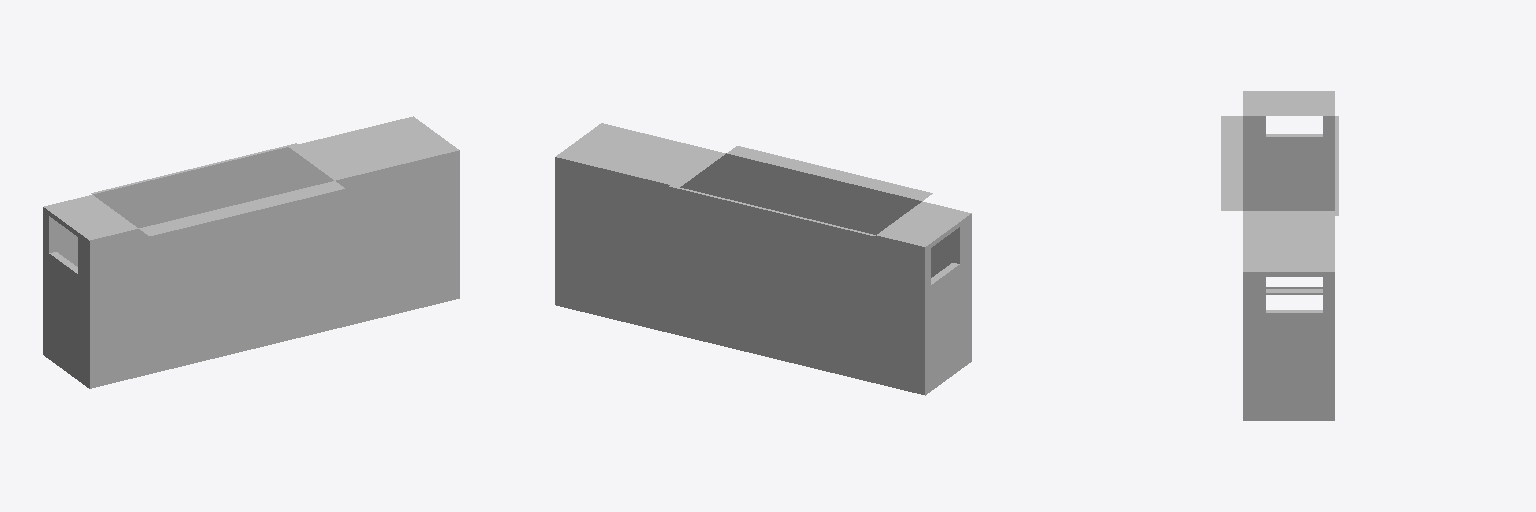
The model's file is SM_Living_Shadowbox.obj.
3 views of the same model, side by side, from view 1: azimuth 30°, elevation 25°; view 2: azimuth 150°, elevation 25°; view 3: azimuth 270°, elevation 25° (orthographic).
Parts seen in each view (by area): view 1: SM_Living_Shadowbox; view 2: SM_Living_Shadowbox; view 3: SM_Living_Shadowbox.
Part boxes in pixels (bbox=[...]): SM_Living_Shadowbox: bbox=[43, 116, 459, 388]; SM_Living_Shadowbox: bbox=[555, 123, 971, 395]; SM_Living_Shadowbox: bbox=[1221, 91, 1338, 420].
Size of the model in its own units: 19.84 by 7.6 by 5.48.